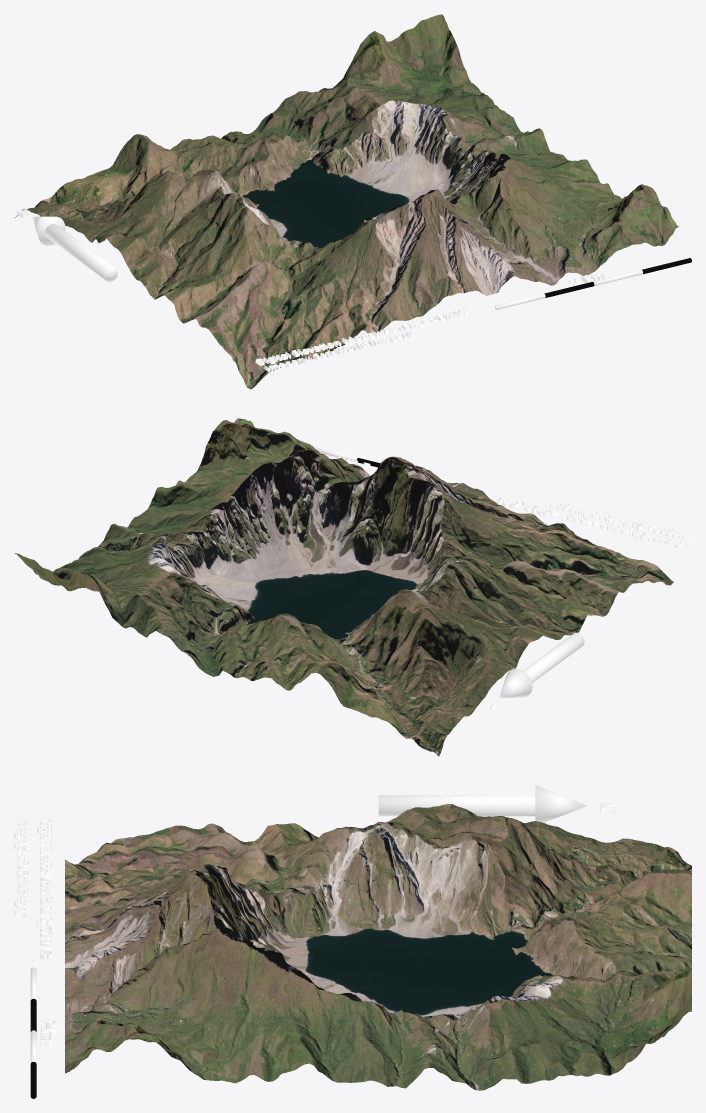
3 views of the same model, one above another, from view 1: azimuth 30°, elevation 25°; view 2: azimuth 150°, elevation 25°; view 3: azimuth 270°, elevation 25° (orthographic). The views are drawn at different scales.
Parts seen in each view (by area): view 1: TerrainNode_0, Adornments_1; view 2: TerrainNode_0, Adornments_1; view 3: TerrainNode_0, Adornments_1.
Boxes of the visible parts, x1,y1,x2,y2 form: TerrainNode_0: [14, 14, 678, 389]; Adornments_1: [17, 208, 691, 372]; TerrainNode_0: [14, 418, 673, 756]; Adornments_1: [314, 447, 691, 710]; TerrainNode_0: [65, 804, 691, 1090]; Adornments_1: [14, 785, 616, 1098].
Bounding box in the file's own units: 4918 × 1095 × 4711.
Materials: 2 (1 with a texture image).
